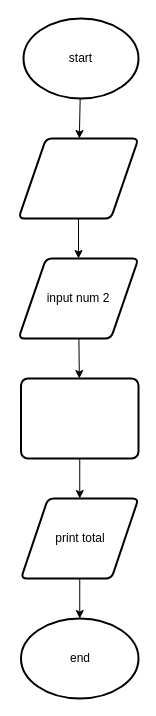
Image size: 156x716. Some labels were removed from this diagram. The shapes that lost their labels are listed below. From the top down, each one's centre as x and y in pixels, then its label:
At (78,178): "input num 1".
At (79,418): "total = num1 + num2".
